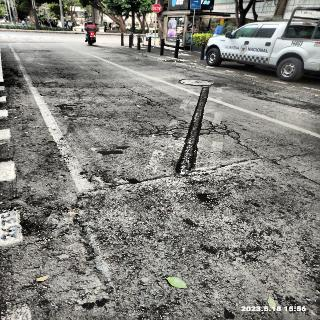alligator-crack: (200, 117, 260, 158), (141, 111, 191, 142), (207, 81, 273, 96)
crack: (120, 83, 168, 109), (85, 66, 103, 74)
